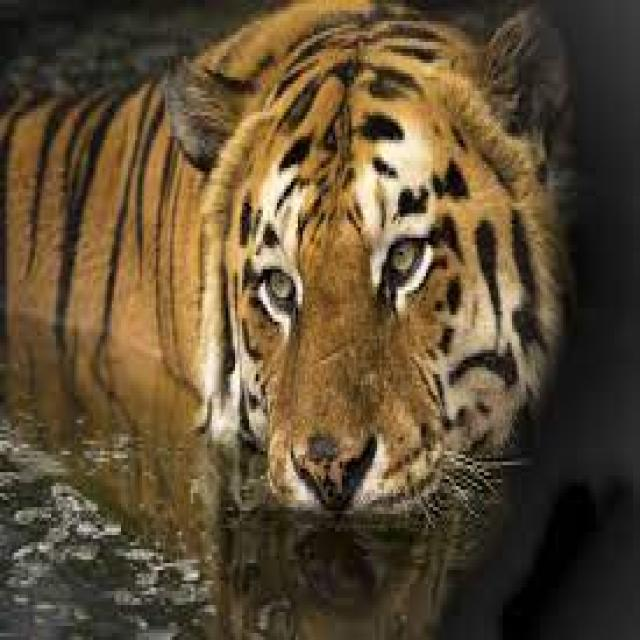Carnivorous: (5, 0, 570, 605)
